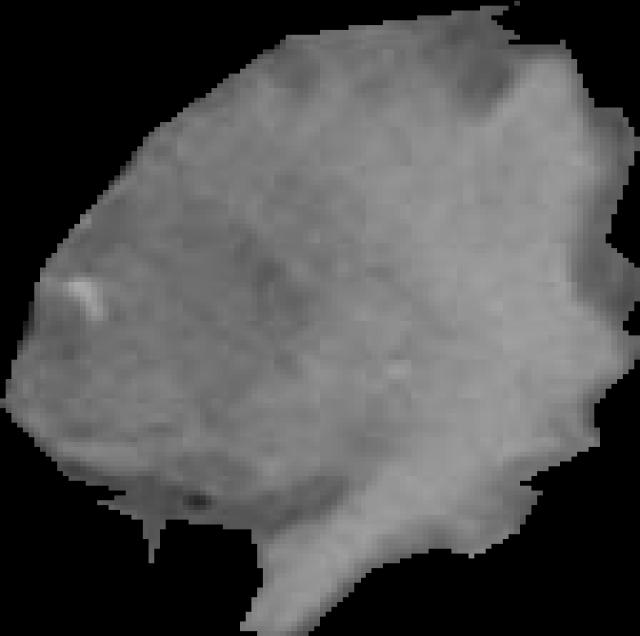tumor_less_chance: (0, 1, 640, 636)
